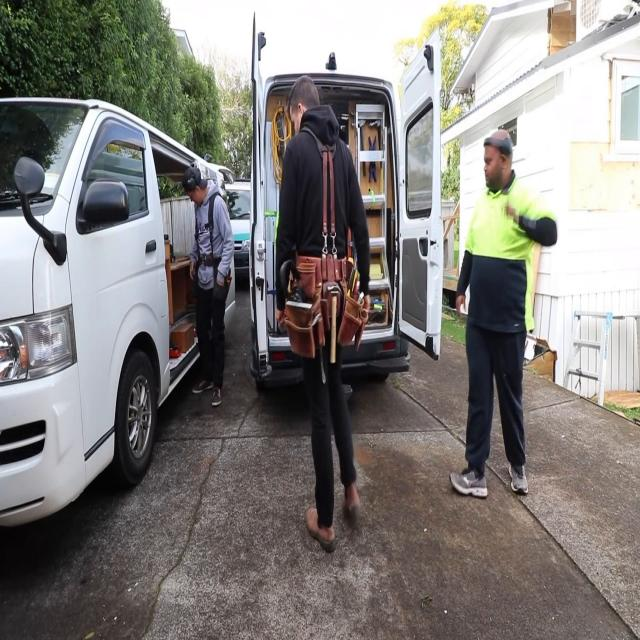hammer: (326, 284, 342, 363)
